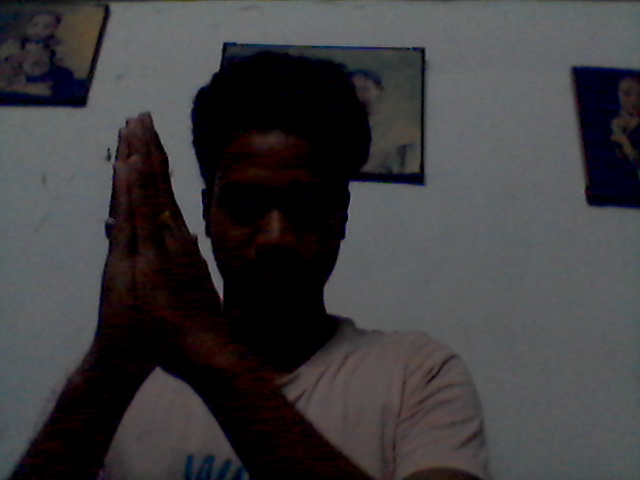Namasthe: (78, 111, 225, 398)
